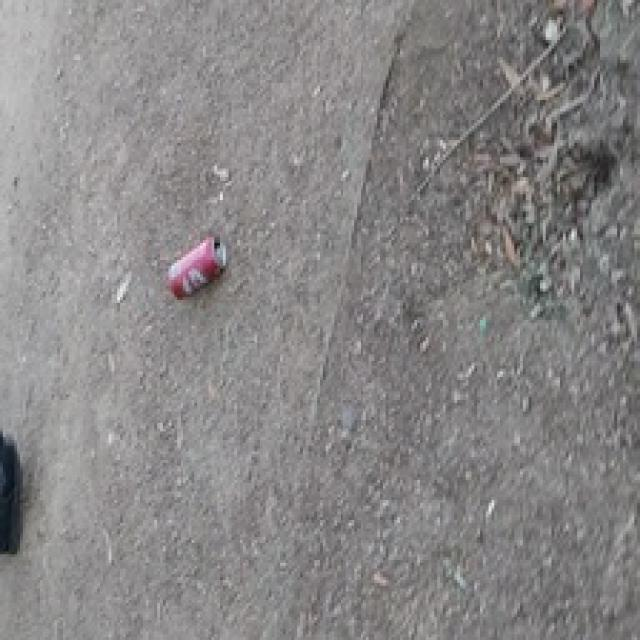recyclable: (165, 234, 229, 302)
